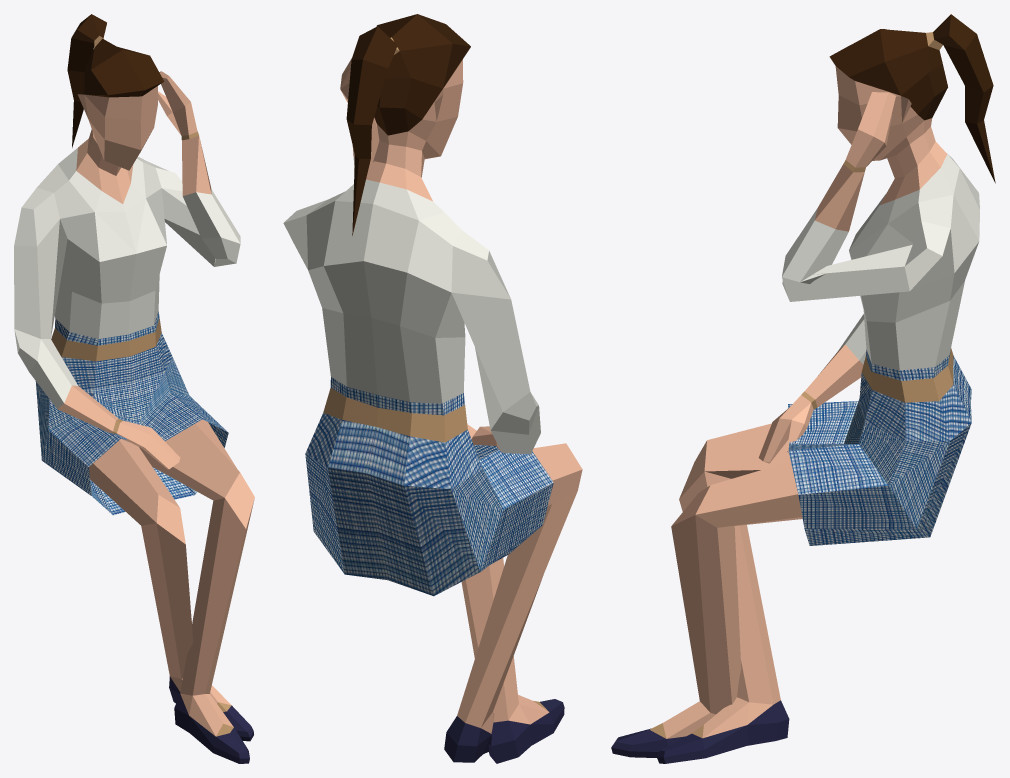
File: SpringWomanB.010.glb
3 views of the same model, side by side, from view 1: azimuth 30°, elevation 25°; view 2: azimuth 150°, elevation 25°; view 3: azimuth 270°, elevation 25° (orthographic). The views are drawn at different scales.
Parts seen in each view (by area): view 1: SpringWomanB.011; view 2: SpringWomanB.011; view 3: SpringWomanB.011.
Boxes of the visible parts, bbox=[...] form: SpringWomanB.011: bbox=[14, 14, 254, 763]; SpringWomanB.011: bbox=[283, 14, 582, 763]; SpringWomanB.011: bbox=[611, 14, 995, 763].
Size of the model in its own units: 0.4141 by 1.4 by 0.6662.
Materials: 1 (1 with a texture image).
